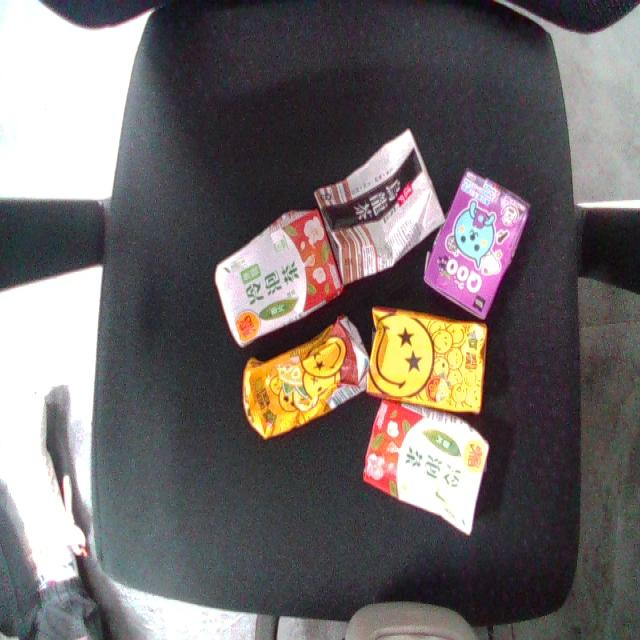juicebox: (284, 117, 475, 300), (183, 190, 365, 356), (213, 303, 394, 453), (341, 388, 507, 545), (407, 158, 548, 326), (346, 295, 508, 426)
